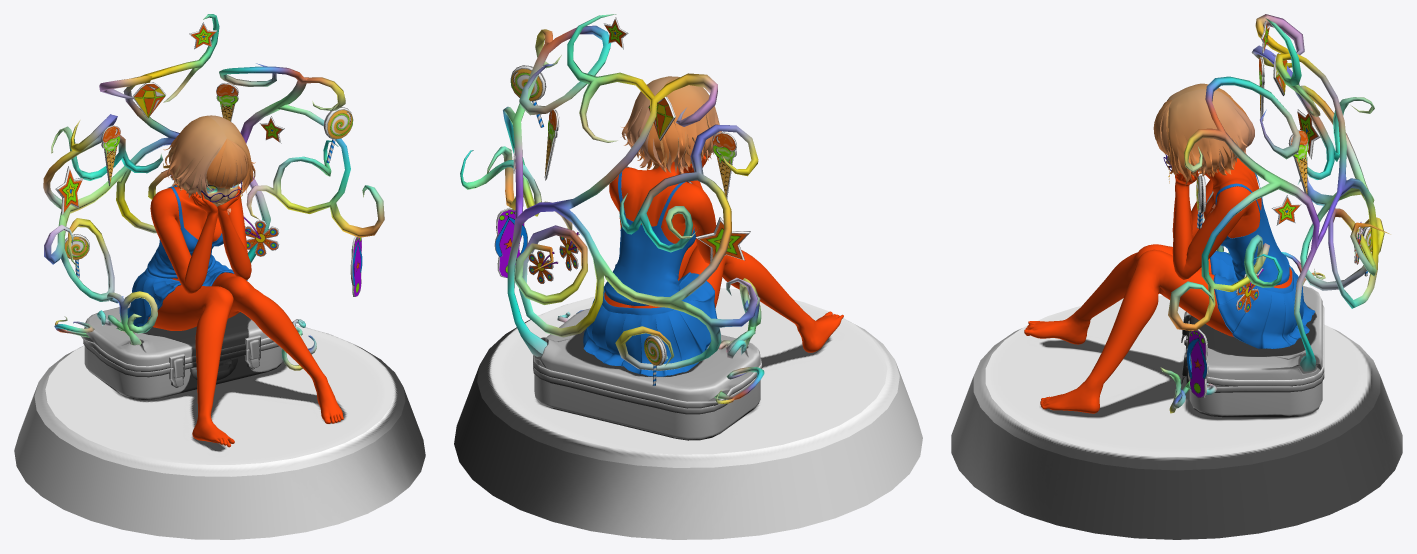
The picture shows the model from 3 angles, left to right: view 1: azimuth 30°, elevation 25°; view 2: azimuth 150°, elevation 25°; view 3: azimuth 270°, elevation 25°; orthographic projection. The views are drawn at different scales.
Parts seen in each view (by area): view 1: pCube22_DUP2_DUP7, model_all body_Gp body_line, hair face_Gp model_all hair_line, model_all body_Gp cos_line; view 2: pCube22_DUP2_DUP7, model_all body_Gp cos_line, model_all body_Gp body_line, hair face_Gp model_all hair_line; view 3: pCube22_DUP2_DUP7, model_all body_Gp body_line, model_all body_Gp cos_line, hair face_Gp model_all hair_line.
Part boxes in pixels (x1,y1,x2,y2): pCube22_DUP2_DUP7: (14, 14, 425, 539); model_all body_Gp body_line: (147, 186, 343, 447); hair face_Gp model_all hair_line: (163, 115, 255, 197); model_all body_Gp cos_line: (127, 186, 247, 326); pCube22_DUP2_DUP7: (454, 14, 922, 539); model_all body_Gp cos_line: (583, 172, 717, 376); model_all body_Gp body_line: (604, 153, 843, 352); hair face_Gp model_all hair_line: (621, 76, 721, 173); pCube22_DUP2_DUP7: (951, 14, 1402, 539); model_all body_Gp body_line: (1024, 158, 1292, 413); model_all body_Gp cos_line: (1202, 157, 1314, 348); hair face_Gp model_all hair_line: (1153, 83, 1254, 185).
Size of the model in its own units: 136 by 145 by 135.
3 materials, 3 textured.
